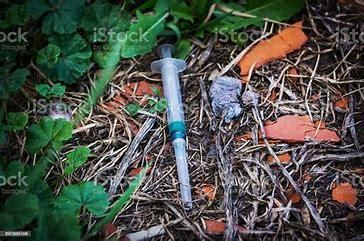Syringe: (146, 42, 209, 217)
